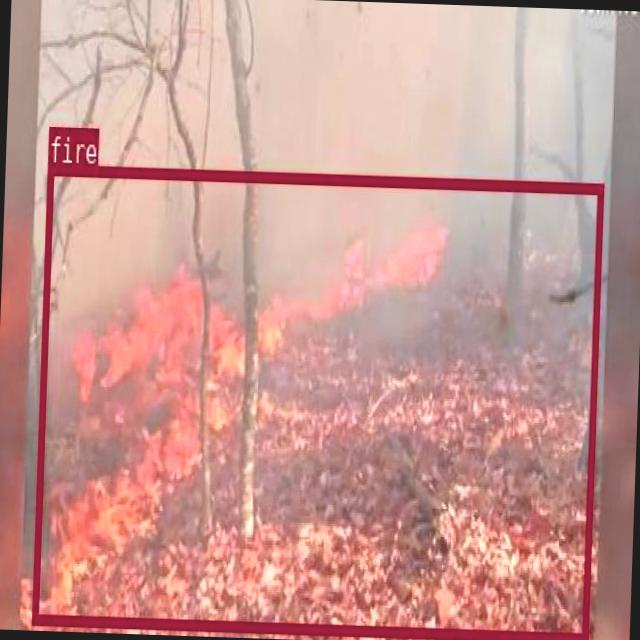fire: (30, 163, 602, 640)
